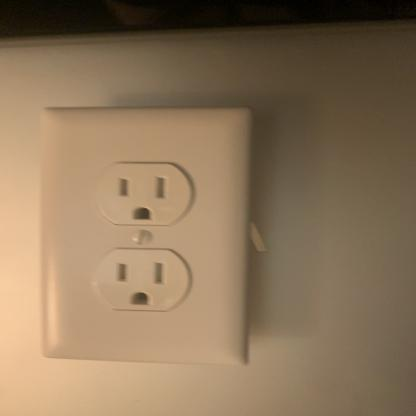OUTLET: (40, 108, 250, 361)
